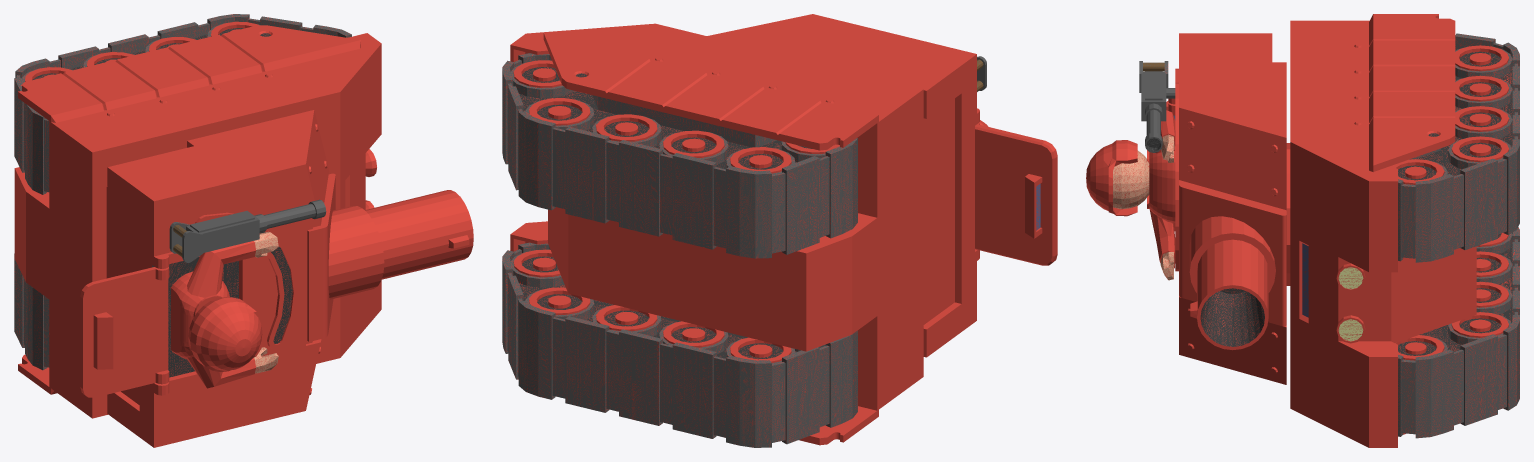
3 renders of one model, left to right at view 1: azimuth 30°, elevation 25°; view 2: azimuth 150°, elevation 25°; view 3: azimuth 270°, elevation 25°, orthographic. The views are drawn at different scales.
Visible parts, largest first — view 1: orange star medium tank; view 2: orange star medium tank; view 3: orange star medium tank.
Part boxes in pixels (box(x1,y1,x2,y2)): orange star medium tank: box(14, 14, 473, 447); orange star medium tank: box(502, 14, 1057, 447); orange star medium tank: box(1086, 14, 1519, 447).
Bounding box in the file's own units: 255 × 169 × 238.
